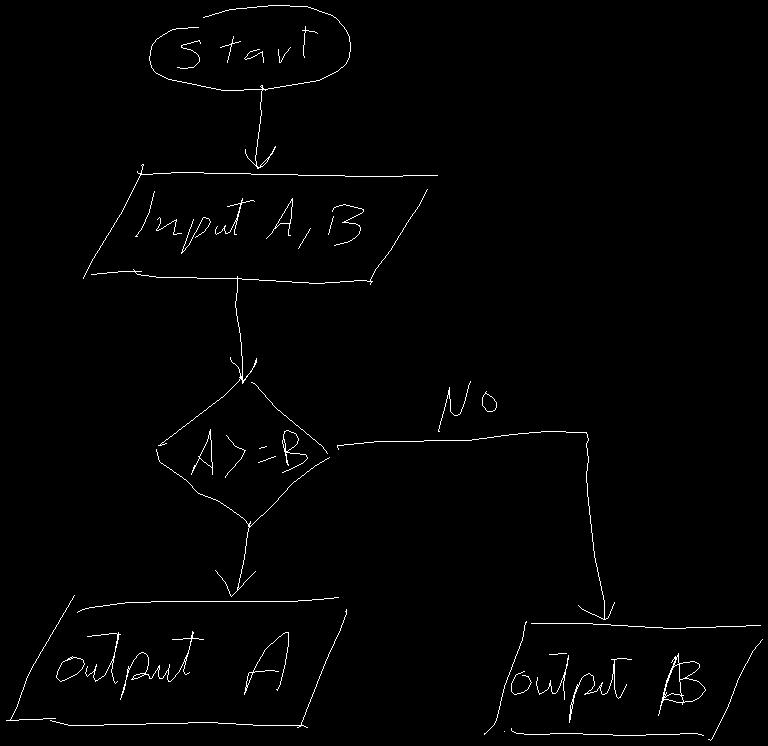arrow: (337, 431, 614, 619), (215, 521, 255, 596), (230, 276, 256, 383), (245, 85, 275, 168)
data: (6, 595, 346, 727), (83, 164, 437, 284), (484, 621, 762, 740)
decision: (156, 376, 329, 526)
terminator: (149, 5, 350, 90)
text: (56, 631, 288, 699), (135, 191, 363, 253), (511, 653, 705, 722), (177, 26, 317, 68), (191, 429, 307, 477), (438, 381, 496, 431)
